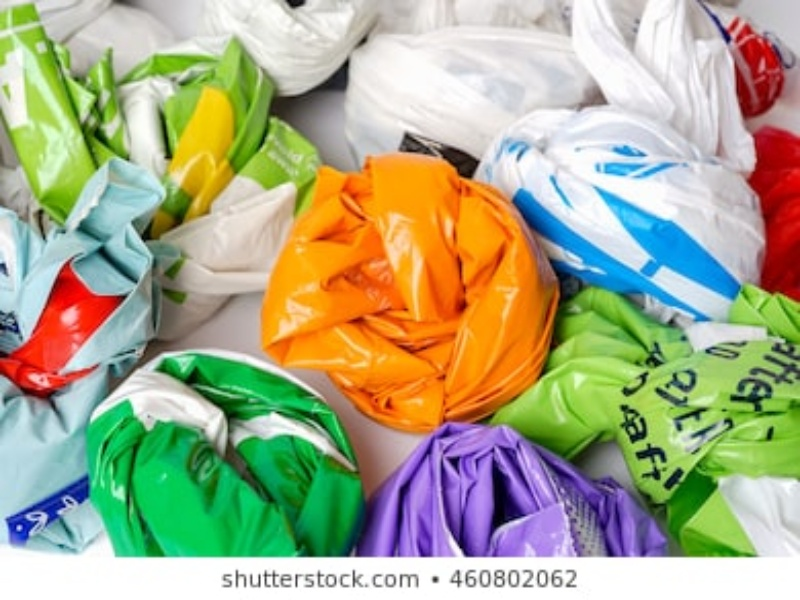plastic-bag: (469, 1, 794, 329), (10, 13, 296, 349), (266, 145, 559, 432), (502, 287, 798, 565), (85, 340, 390, 553), (3, 154, 154, 557), (365, 412, 680, 556), (338, 9, 606, 168)
